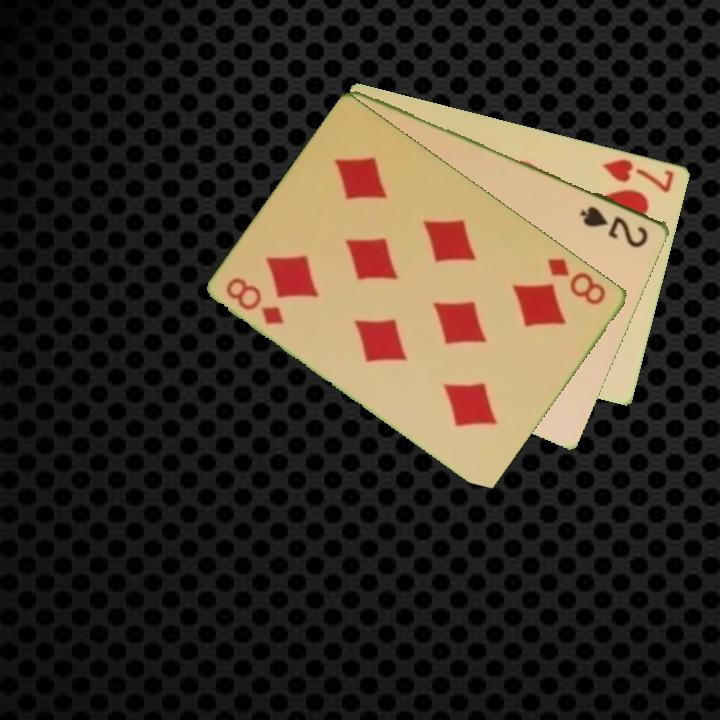2s: (576, 202, 652, 251)
7h: (599, 155, 678, 195)
8d: (223, 273, 288, 328), (544, 254, 610, 308)
